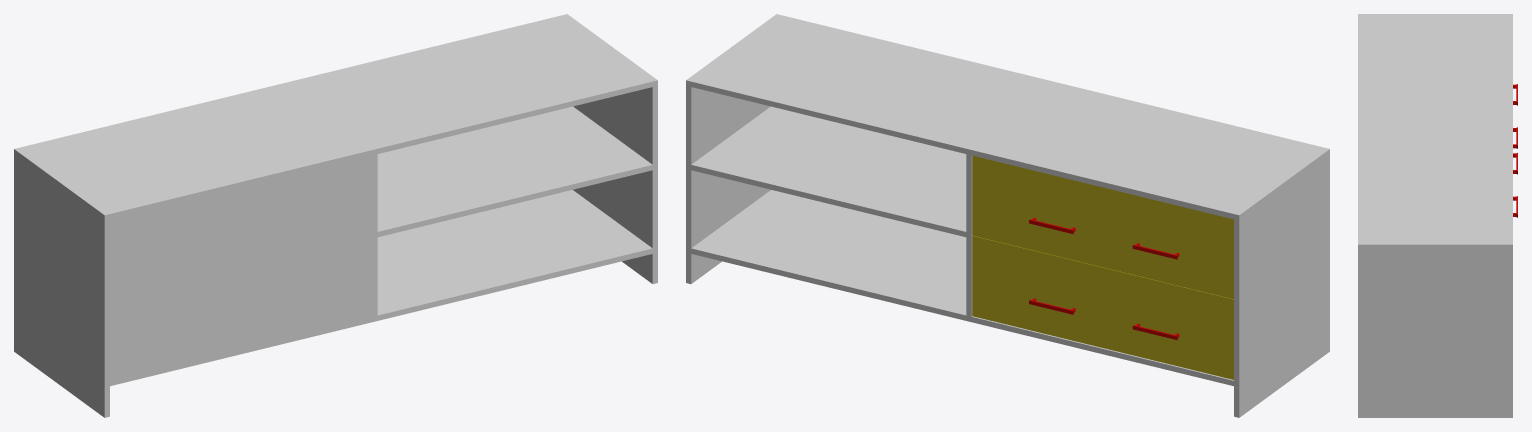
Rendered from Tumbochka_0.fbx.
3 renders of one model, left to right at view 1: azimuth 30°, elevation 25°; view 2: azimuth 150°, elevation 25°; view 3: azimuth 270°, elevation 25°, orthographic. The views are drawn at different scales.
Parts seen in each view (by area): view 1: Cube.477, Cube.489, Cube.478, Cube.484, Cube.479, Cube.480, Cube.483; view 2: Cube.477, Cube.478, Cube.3983, Cube.481, Cube.484, Cube.479, Cube.480, Cube.483; view 3: Cube.477, Cube.480.
Boxes of the visible parts, x1=… form: Cube.477: x1=14, y1=14, x2=657, y2=219; Cube.489: x1=110, y1=155, x2=372, y2=380; Cube.478: x1=110, y1=190, x2=652, y2=386; Cube.484: x1=377, y1=106, x2=652, y2=237; Cube.479: x1=14, y1=149, x2=109, y2=417; Cube.480: x1=573, y1=81, x2=657, y2=283; Cube.483: x1=372, y1=154, x2=377, y2=316; Cube.477: x1=686, y1=14, x2=1329, y2=219; Cube.478: x1=691, y1=190, x2=1233, y2=386; Cube.3983: x1=972, y1=236, x2=1233, y2=379; Cube.481: x1=972, y1=155, x2=1233, y2=299; Cube.484: x1=691, y1=106, x2=966, y2=237; Cube.479: x1=1234, y1=149, x2=1329, y2=417; Cube.480: x1=686, y1=81, x2=770, y2=283; Cube.483: x1=966, y1=154, x2=972, y2=316; Cube.477: x1=1358, y1=14, x2=1512, y2=244; Cube.480: x1=1358, y1=244, x2=1512, y2=417.
Bounding box in the file's own units: 160 × 56 × 46.85.
